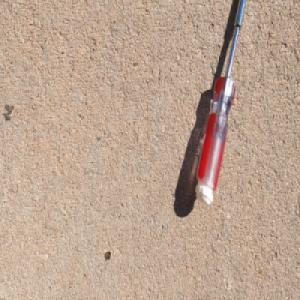Screwdriver: (193, 0, 248, 209)
